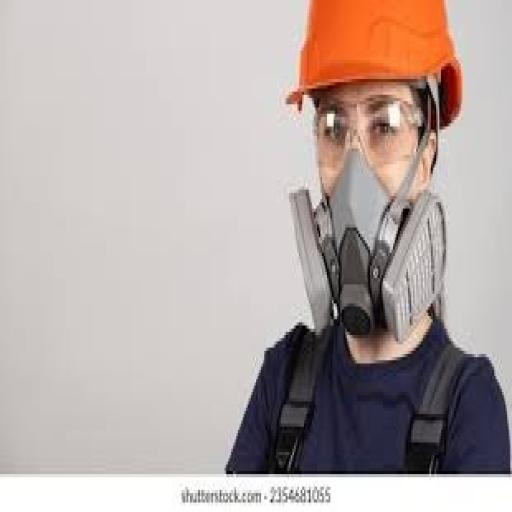mask: (280, 156, 449, 338)
